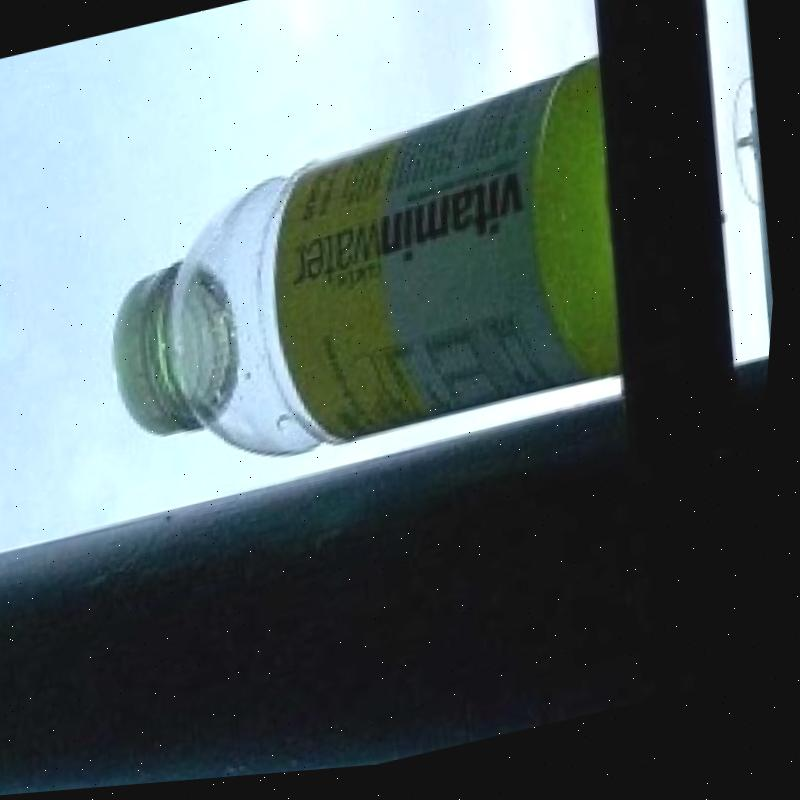botella: (79, 56, 650, 504)
